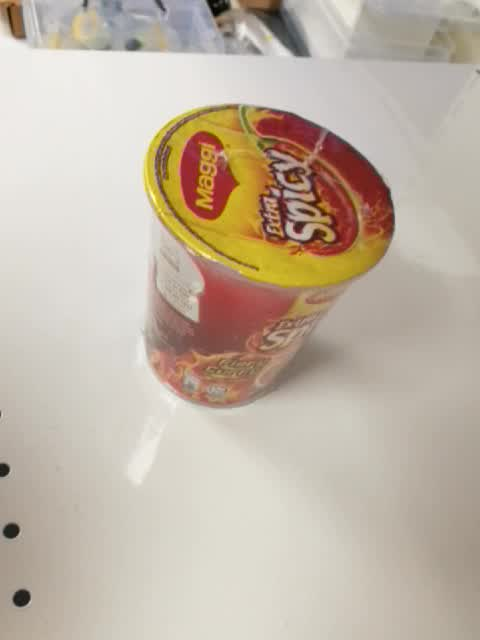maggi: (143, 104, 396, 411)
